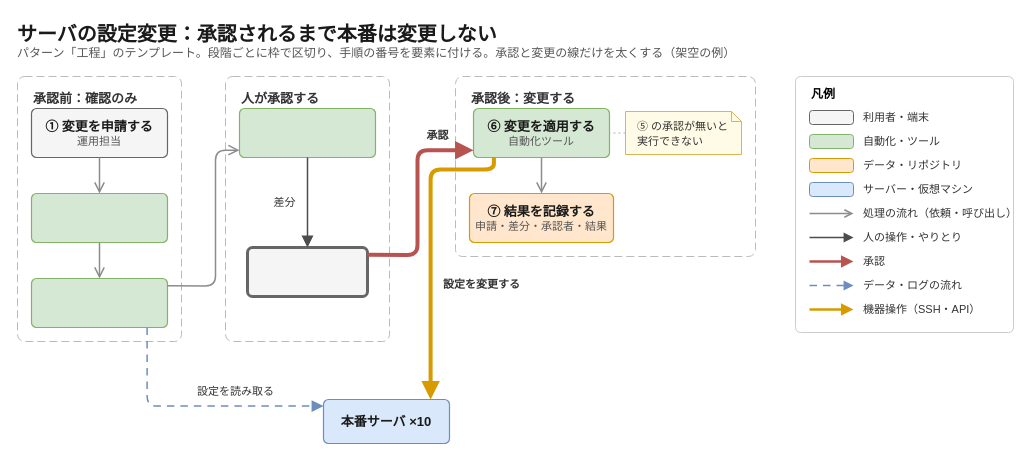
This 1035x461 diagram has some shape labels left out. Each missing label, with the centre of its shape:
② 手順を作成する 運用ツール: (x=99, y=217)
③ 差分を確認する 本番は読み取りのみ: (x=99, y=302)
④ 差分を提示する 運用ツール: (x=307, y=132)
⑤ 承認する 承認者: (x=307, y=272)
